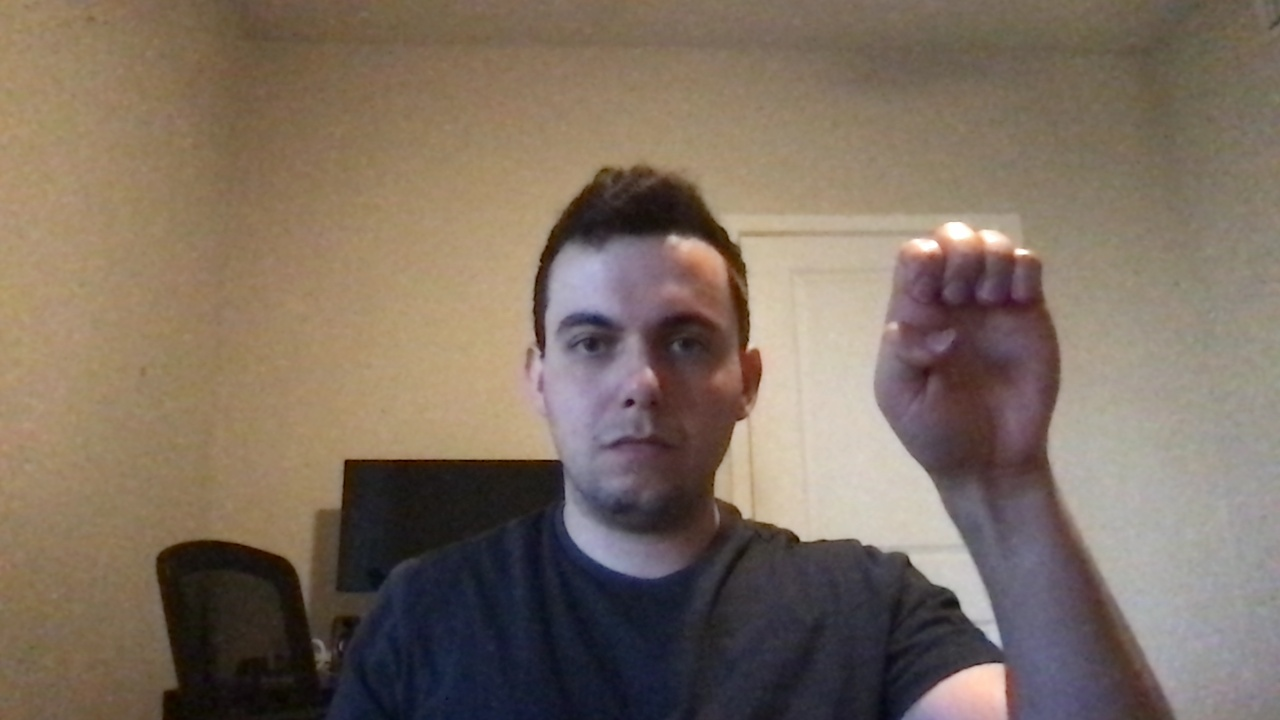e: (849, 207, 1089, 487)
